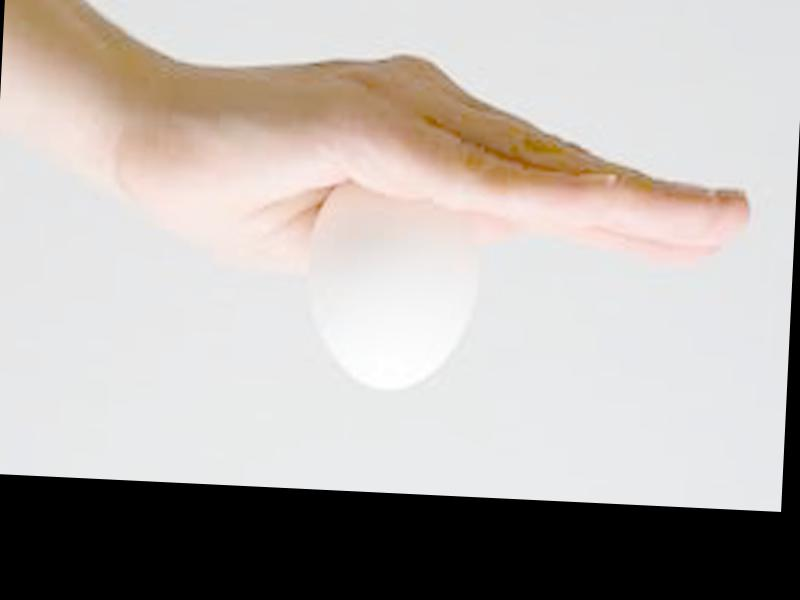Eggs: (312, 179, 481, 392)
